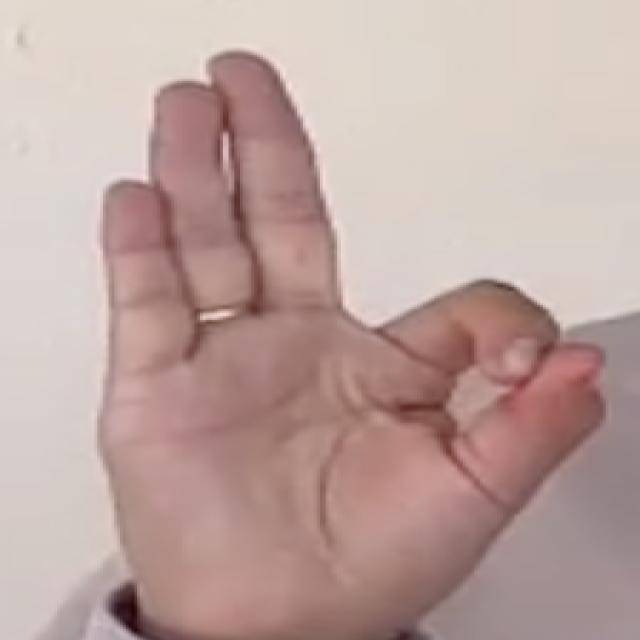F: (92, 32, 611, 580)
